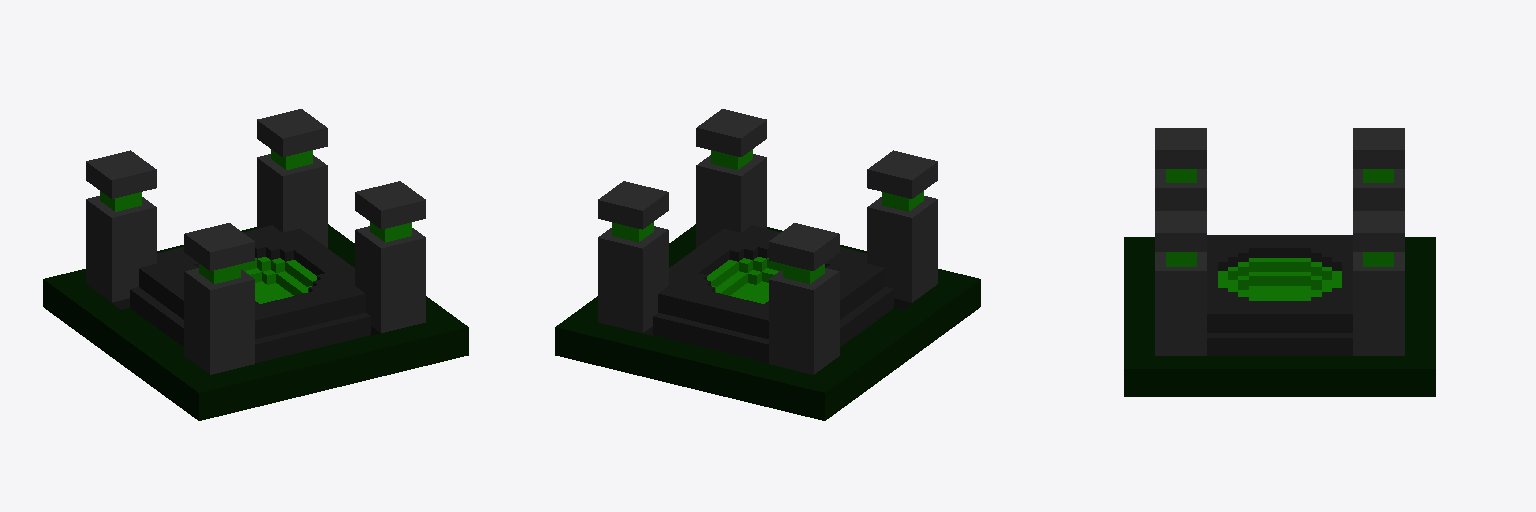
The picture shows the model from 3 angles: view 1: azimuth 30°, elevation 25°; view 2: azimuth 150°, elevation 25°; view 3: azimuth 270°, elevation 25°; orthographic projection.
Parts seen in each view (by area): view 1: object 1; view 2: object 1; view 3: object 1.
Part boxes in pixels (x1,y1,x2,y2): object 1: (43,109,468,420); object 1: (555,109,980,420); object 1: (1124,128,1435,396).
Bounding box in the file's own units: 3 × 1.6 × 3.
Materials: 1 (1 with a texture image).